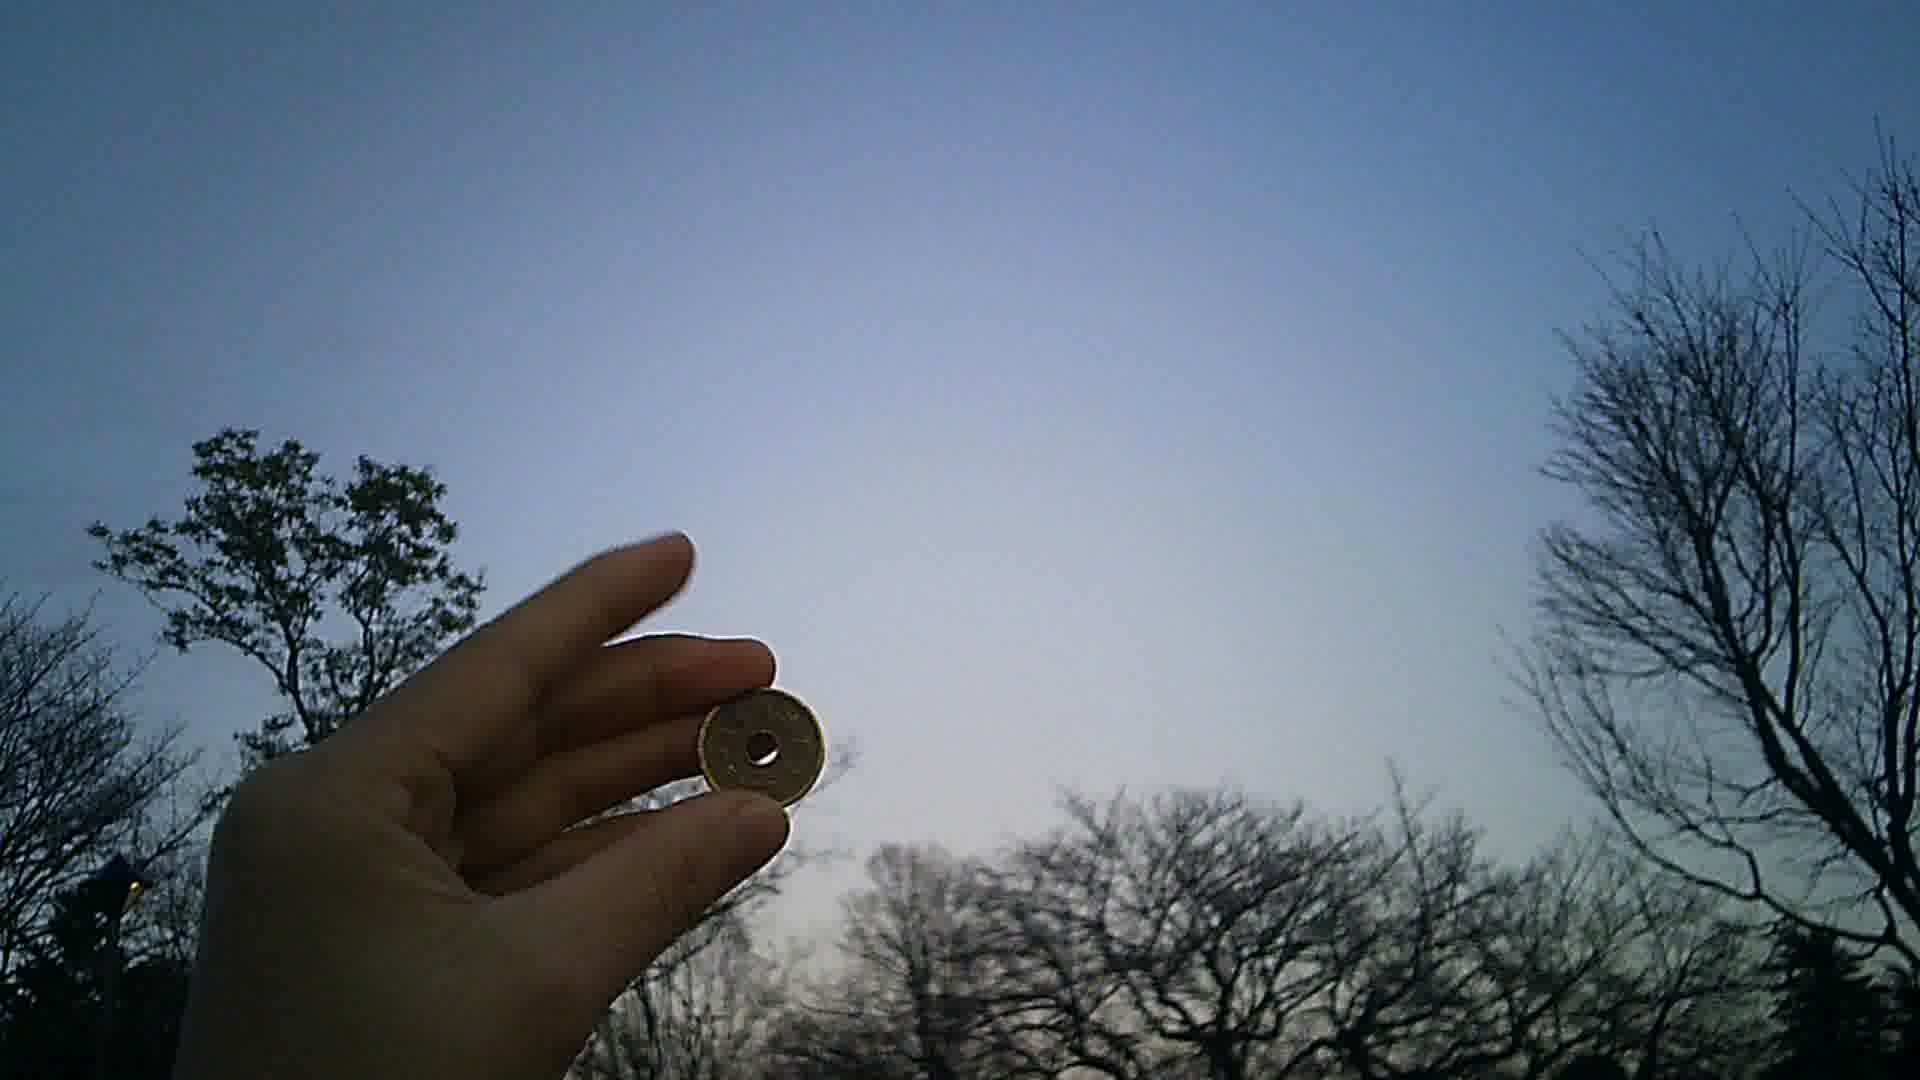5 Yen: (687, 671, 833, 812)
